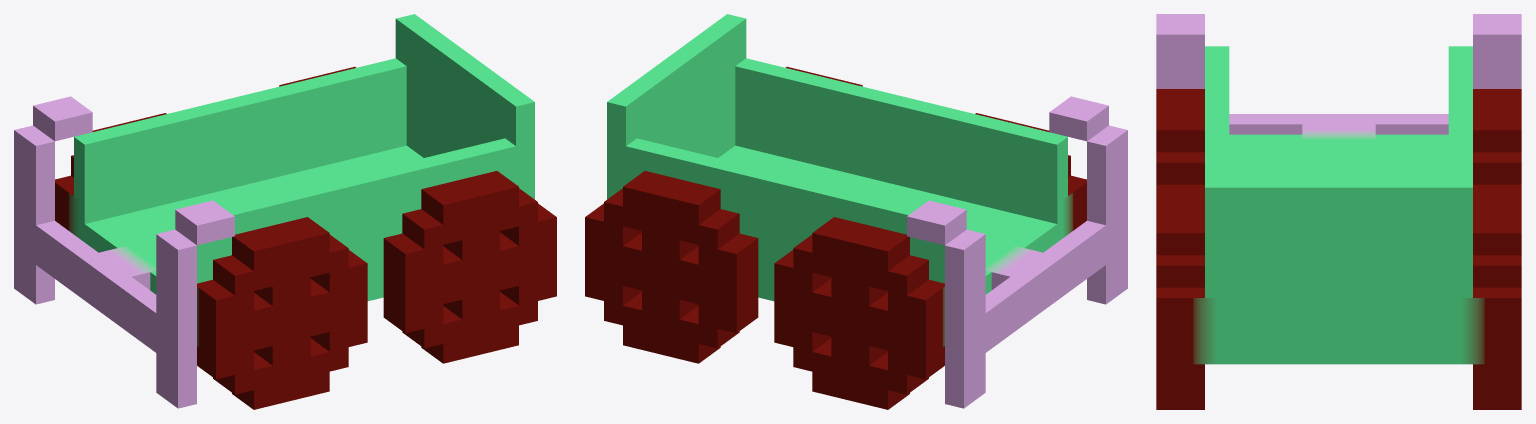
File: Vehicle_7.fbx
The picture shows the model from 3 angles, left to right: view 1: azimuth 30°, elevation 25°; view 2: azimuth 150°, elevation 25°; view 3: azimuth 270°, elevation 25°; orthographic projection. The views are drawn at different scales.
Visible parts, largest first — view 1: Vehicle_7; view 2: Vehicle_7; view 3: Vehicle_7.
Boxes of the visible parts, x1,y1,x2,y2 form: Vehicle_7: (14, 14, 556, 409); Vehicle_7: (585, 14, 1127, 409); Vehicle_7: (1156, 14, 1521, 409).
Bounding box in the file's own units: 20 × 11 × 15.
1 material, 1 textured.
